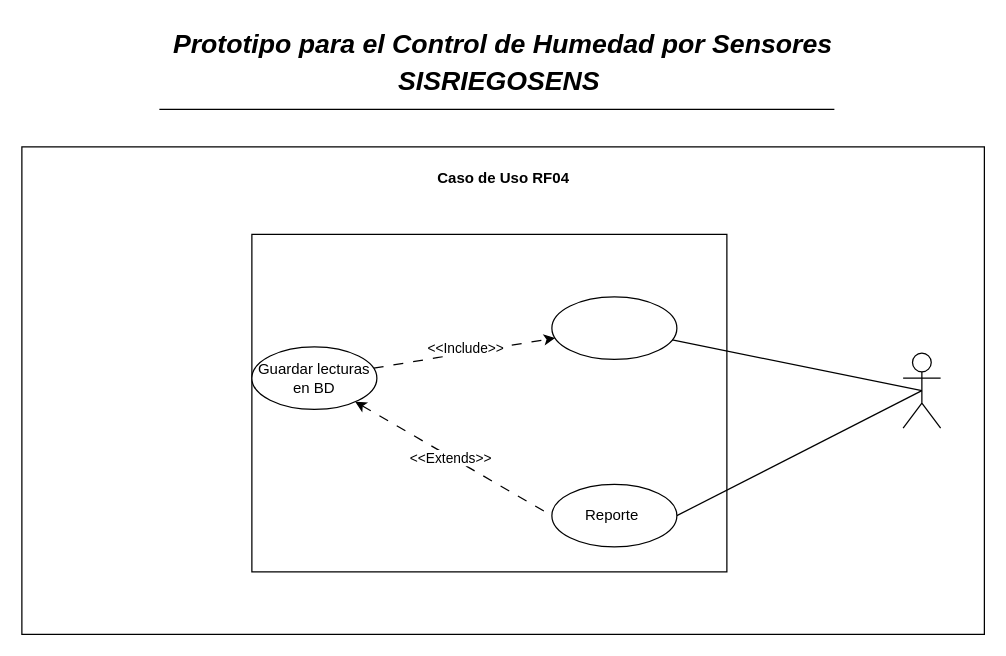
Image size: 1006x656. Some labels were removed from this diagram. The shapes that lost their labels are listed below. From the top down, each one's centre as x and y in pixels, then its label:
(614,327): Sincronizar lecturas de sensores
(921,390): SISRIEGOSENS
